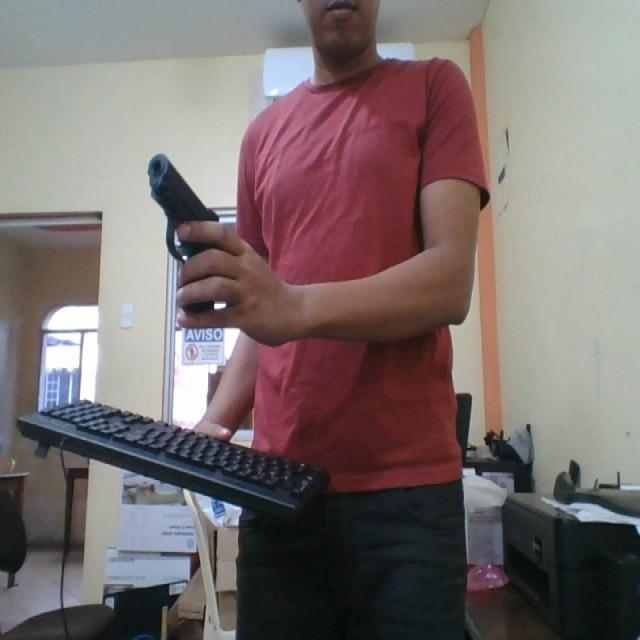weapon: (146, 150, 223, 316)
